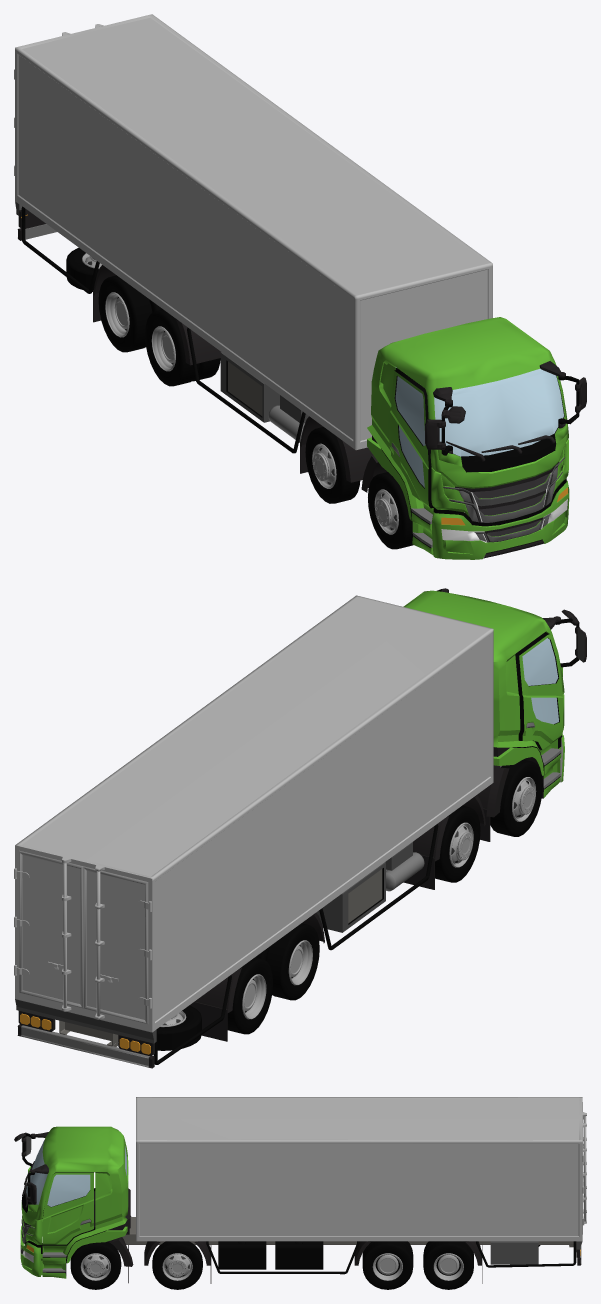
File: triangle_faced.gltf
3 views of the same model, one above another, from view 1: azimuth 30°, elevation 25°; view 2: azimuth 150°, elevation 25°; view 3: azimuth 270°, elevation 25° (orthographic). The views are drawn at different scales.
Parts seen in each view (by area): view 1: Truck_body_Truck_body.L, Truck_head_Truck_head.L, Truck_door.R, wheels_Circle, wheels_Circle.003, wheels_Circle.002, wheels_Circle.001, Truck_Toolbox1, Truck_backmirror.L, Truck_Brakesys, wheel_Circle.001, Truck_backmirror.R; view 2: Truck_body_Truck_body.L, Truck_head_Truck_head.L, Truck_door.R, wheels_Circle.003, wheels_Circle.001, wheels_Circle, wheels_Circle.002, Truck_Toolbox1, wheel_Circle.001, Truck_Brakesys, Truck_backmirror.L; view 3: Truck_body_Truck_body.L, Truck_head_Truck_head.L, Truck_door.L, wheels_Circle.003, wheels_Circle, wheels_Circle.002, wheels_Circle.001, Truck_Fueltank02, Truck_Fueltank01, Truck_Toolbox, Truck_backmirror.L, Truck_backmirror.R.
Boxes of the visible parts, <box> form: Truck_body_Truck_body.L: <box>14,14,492,482</box>; Truck_head_Truck_head.L: <box>361,317,569,559</box>; Truck_door.R: <box>389,369,433,508</box>; wheels_Circle: <box>98,275,162,352</box>; wheels_Circle.003: <box>145,309,220,386</box>; wheels_Circle.002: <box>305,427,360,503</box>; wheels_Circle.001: <box>368,472,413,549</box>; Truck_Toolbox1: <box>220,352,279,422</box>; Truck_backmirror.L: <box>425,387,465,455</box>; Truck_Brakesys: <box>268,395,308,442</box>; wheel_Circle.001: <box>66,247,101,291</box>; Truck_backmirror.R: <box>539,361,586,428</box>; Truck_body_Truck_body.L: <box>14,595,493,1068</box>; Truck_head_Truck_head.L: <box>403,590,564,841</box>; Truck_door.R: <box>515,633,563,749</box>; wheels_Circle.003: <box>255,923,319,1000</box>; wheels_Circle.001: <box>490,759,542,836</box>; wheels_Circle: <box>227,957,273,1034</box>; wheels_Circle.002: <box>435,805,480,882</box>; Truck_Toolbox1: <box>316,862,385,932</box>; wheel_Circle.001: <box>156,1005,201,1050</box>; Truck_Brakesys: <box>385,842,424,891</box>; Truck_backmirror.L: <box>542,609,586,667</box>; Truck_body_Truck_body.L: <box>122,1097,586,1283</box>; Truck_head_Truck_head.L: <box>20,1126,133,1283</box>; Truck_door.L: <box>42,1172,93,1244</box>; wheels_Circle.003: <box>362,1241,413,1289</box>; wheels_Circle: <box>423,1241,473,1289</box>; wheels_Circle.002: <box>152,1241,202,1289</box>; wheels_Circle.001: <box>70,1241,121,1289</box>; Truck_Fueltank02: <box>275,1241,323,1269</box>; Truck_Fueltank01: <box>218,1241,266,1269</box>; Truck_Toolbox: <box>490,1241,538,1264</box>; Truck_backmirror.L: <box>14,1132,48,1169</box>; Truck_backmirror.R: <box>27,1164,48,1204</box>.
Bounding box in the file's own units: 1.98 × 2.6 × 9.04.
